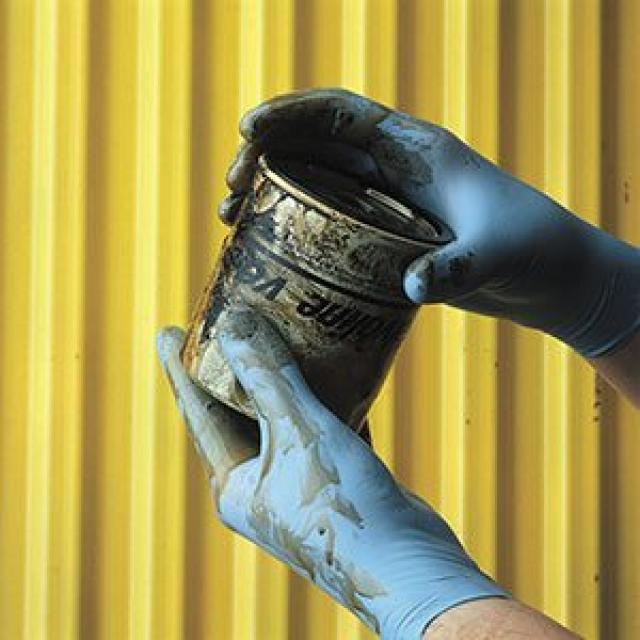gloves: (154, 303, 516, 640), (217, 87, 638, 360)
